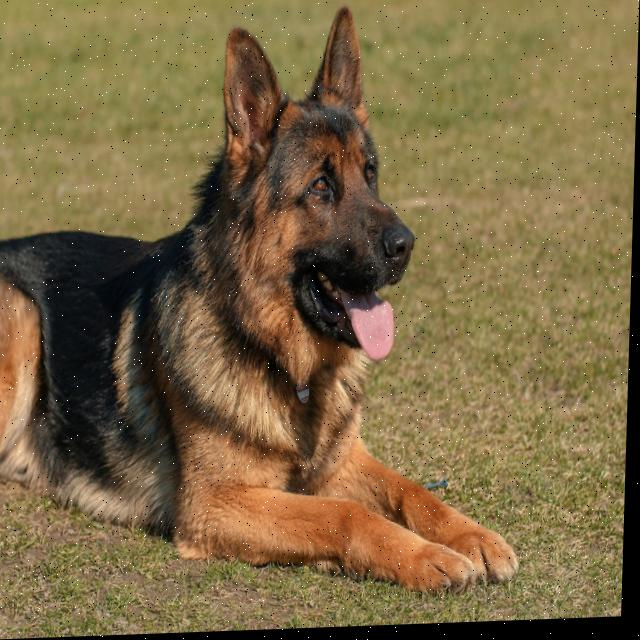GERMAN_SHEPHERD: (0, 0, 536, 623)
